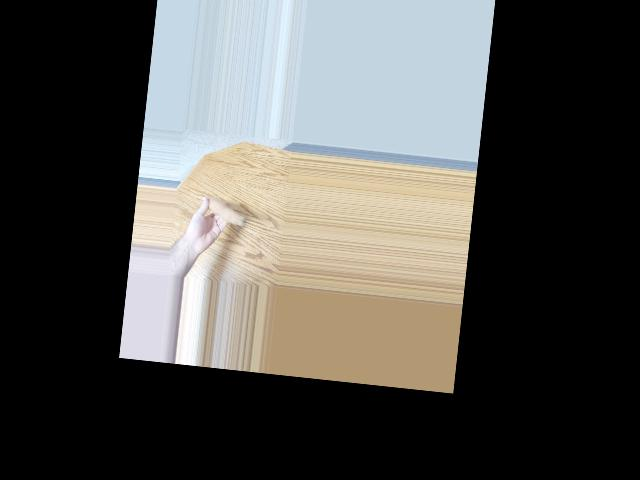sweet_potato: (201, 195, 246, 228)
